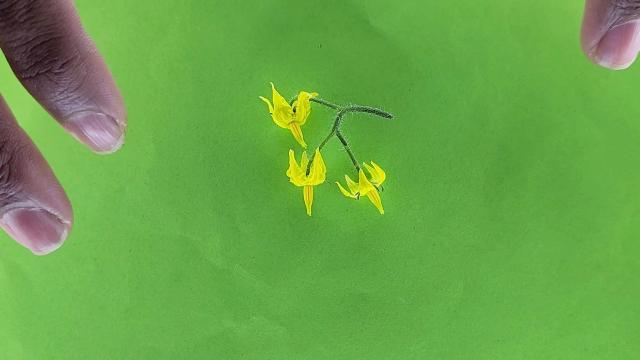Anthesis: (259, 80, 316, 150), (285, 145, 328, 216), (335, 158, 388, 215)
